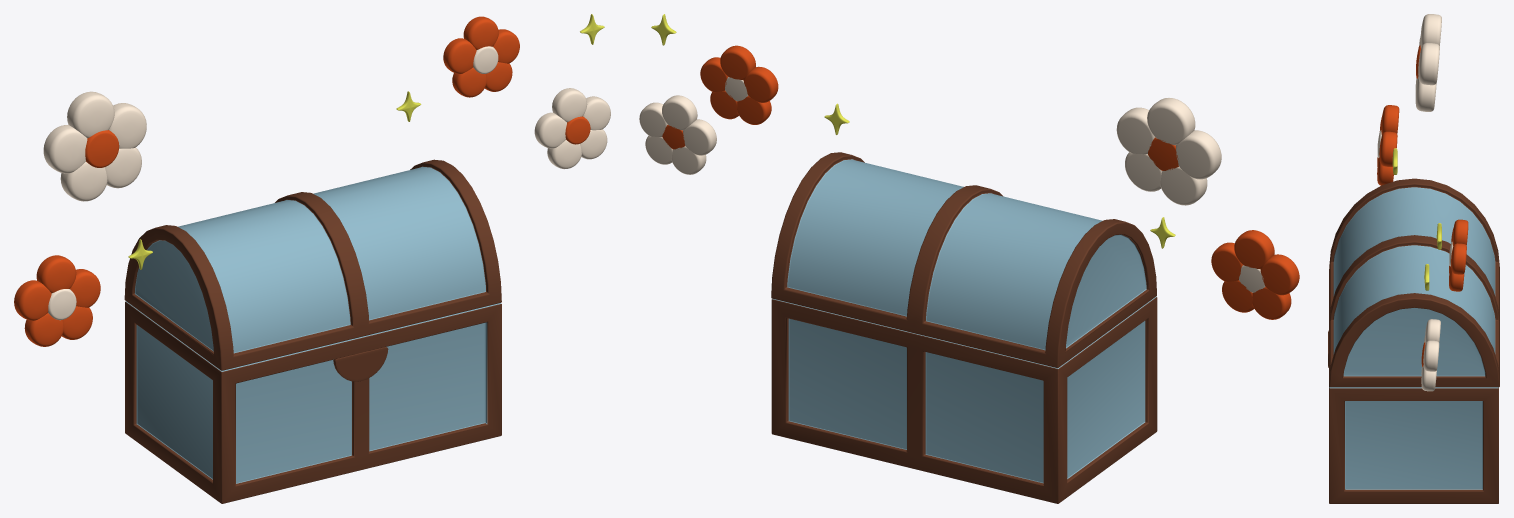
The picture shows the model from 3 angles, left to right: view 1: azimuth 30°, elevation 25°; view 2: azimuth 150°, elevation 25°; view 3: azimuth 270°, elevation 25°; orthographic projection. The views are drawn at different scales.
Visible parts, largest first — view 1: Cylinder, Cube, Circle.007, Circle.001, Circle.003, Circle.005, Cylinder.001, Circle.008, Circle.002; view 2: Cylinder, Cube, Circle.007, Circle.001, Circle.005, Circle.003, Circle.008; view 3: Cylinder, Cube, Circle.007, Circle.001, Circle.005, Circle.003.
Part boxes in pixels (box(x1,y1,x2,y2)): Cylinder: box(124, 159, 501, 370); Cube: box(125, 301, 501, 503); Circle.007: box(43, 91, 146, 201); Circle.001: box(14, 255, 100, 346); Circle.003: box(534, 88, 610, 169); Circle.005: box(443, 16, 519, 97); Cylinder.001: box(333, 347, 388, 381); Circle.008: box(85, 130, 119, 167); Circle.002: box(48, 289, 76, 320); Cylinder: box(771, 152, 1156, 368); Cube: box(771, 296, 1157, 503); Circle.007: box(1116, 98, 1221, 205); Circle.001: box(1211, 230, 1299, 319); Circle.005: box(700, 45, 778, 124); Circle.003: box(639, 95, 716, 174); Circle.008: box(1148, 137, 1178, 170); Cylinder: box(1329, 178, 1499, 387); Cube: box(1329, 269, 1498, 503); Circle.007: box(1415, 14, 1441, 111); Circle.001: box(1377, 105, 1399, 185); Circle.005: box(1449, 219, 1468, 291); Circle.003: box(1421, 319, 1440, 391).
Bounding box in the file's own units: 1.51 × 0.9038 × 0.4167.
